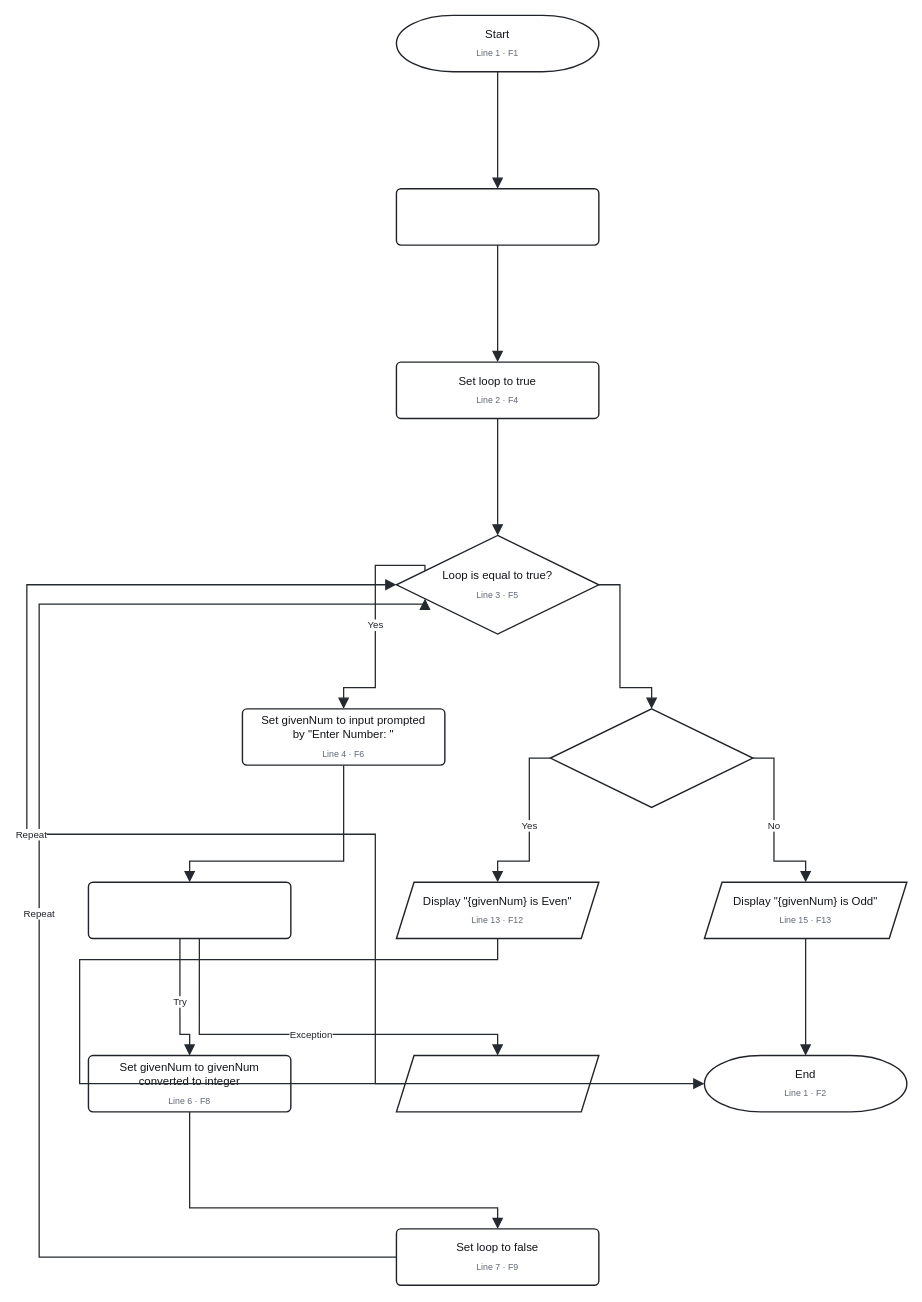
This 922x1302 diagram has some shape labels left out. The shapes that lost their labels are listed below. From the top down, each one's centre as x and y in pixels, then its label:
[497,216]: Set givenNum to 0 Line 1 · F3
[651,758]: GivenNum modulo 2 is equal to 0? Line 12 · F11
[189,910]: Attempt the following operations Line 5 · F7
[497,1083]: Display "That's Not a Valid Integer, Please Try Again!" Line 9 · F10
